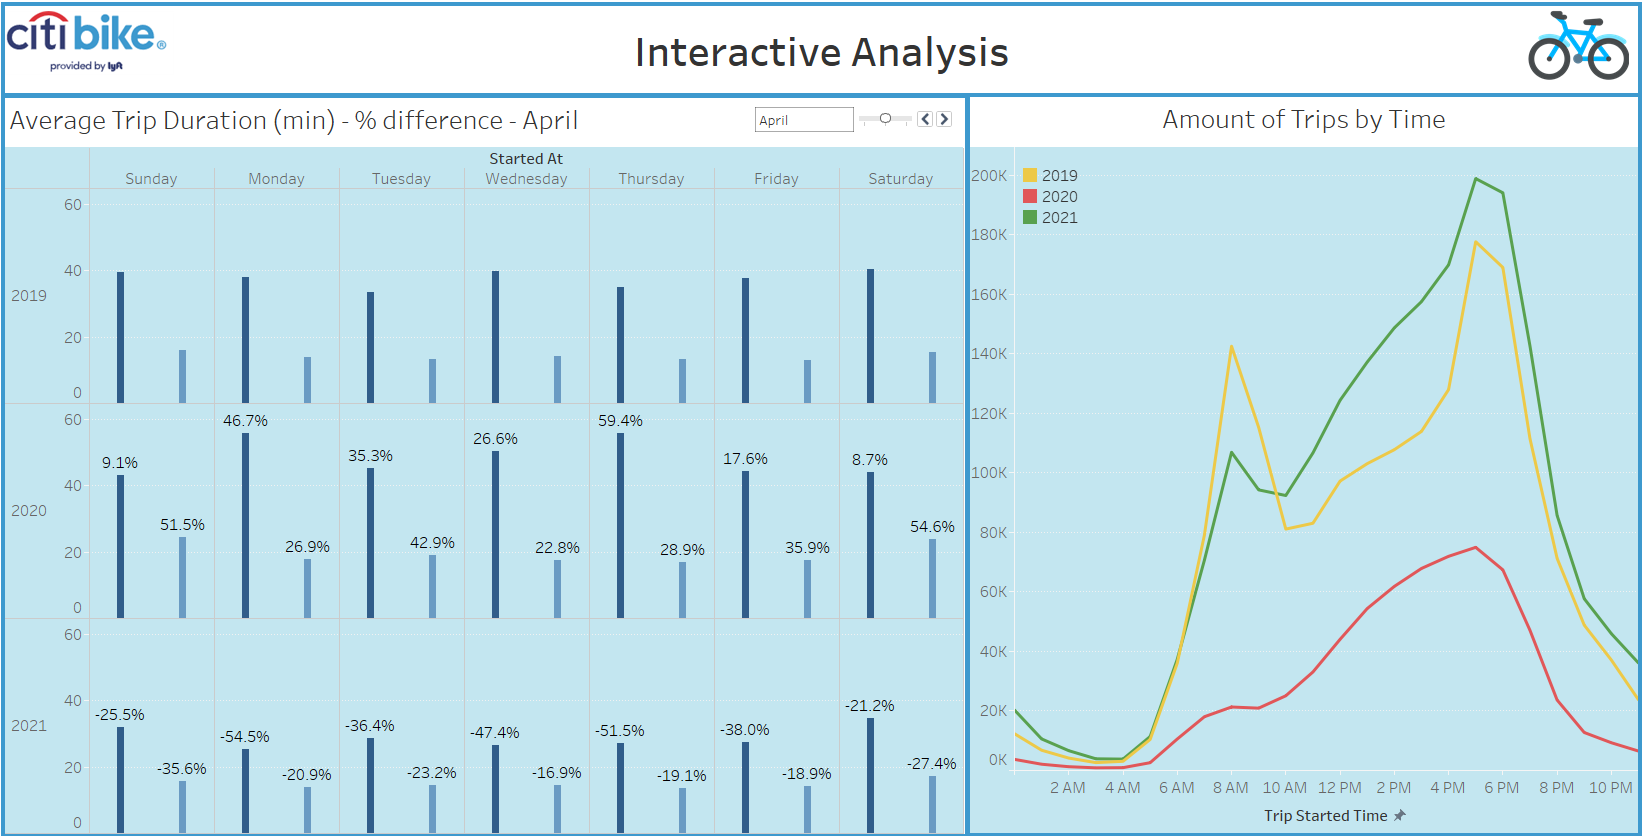

The dashboard page shown, as its layout file describes it:
{"tool":"tableau","page":{"name":"trip duration","canvas":[1000,1000],"units":"permille","ordinal":5},"visuals":[{"type":"title","box":[4.8,9.4,990.3,111.6]},{"type":"image","param":"C:/Users/Raphael Costa/Desktop/Thiago/Data Mining/IronHack/Final Project Data Se","box":[7.2,20,102,91.7]},{"type":"worksheet","title":"start hours by year","mark":"Line","rows":["2013.csv_D516ED04798B4F7F8C7D6F623E1E6077"],"cols":["started_at"],"box":[589.6,121,403.1,864.9]},{"type":"worksheet","title":"tripduration","mark":"Bar","rows":["started_at","tripduration"],"cols":["started_at","member_casual"],"box":[7.3,122.5,579.6,864.5]},{"type":"filter","title":"tripduration","param":"[federated.1grv25w1kfb80c1gx685q0tu9dn1].[MONTH(Started At) Set]","box":[455.6,128.1,127.9,42.3]},{"type":"legend","title":"start hours by year","param":"[federated.1grv25w1kfb80c1gx685q0tu9dn1].[YEAR(Started At) Set]","box":[619.6,201,104.8,74.9]}]}

Visuals, with their boxes on the dashboard's canvas, which has no fixed pixel size, in thousandths of its width and height (x1, y1, x2, y2). These are canvas units, not pixel positions in the 1643x837 screenshot, which may show the page scaled, cropped or inside an application window:
title: Rect(5, 9, 995, 121)
image: Rect(7, 20, 109, 112)
"start hours by year" worksheet (Line marks): Rect(590, 121, 993, 986)
"tripduration" worksheet (Bar marks): Rect(7, 122, 587, 987)
"tripduration" filter: Rect(456, 128, 584, 170)
"start hours by year" legend: Rect(620, 201, 724, 276)
